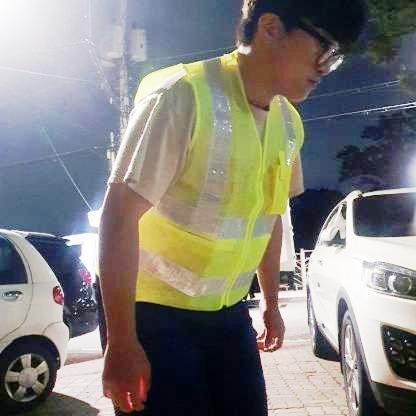no-helmet: (234, 0, 367, 47)
vest: (109, 45, 310, 308)
